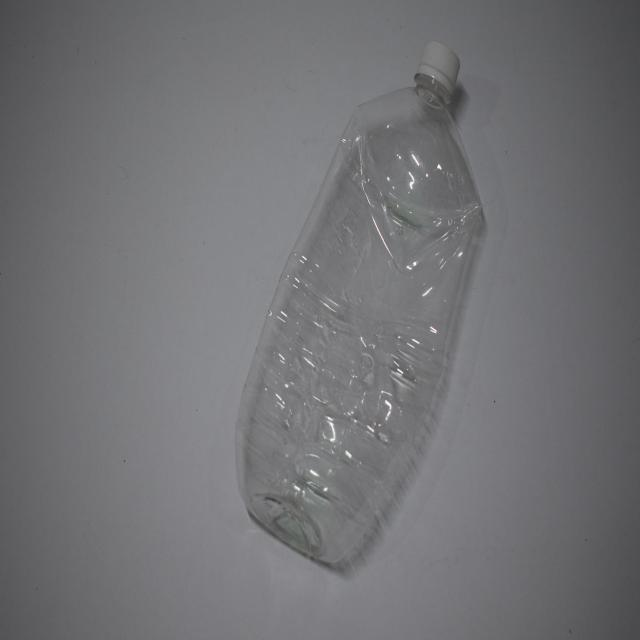empty: (236, 42, 481, 563)
